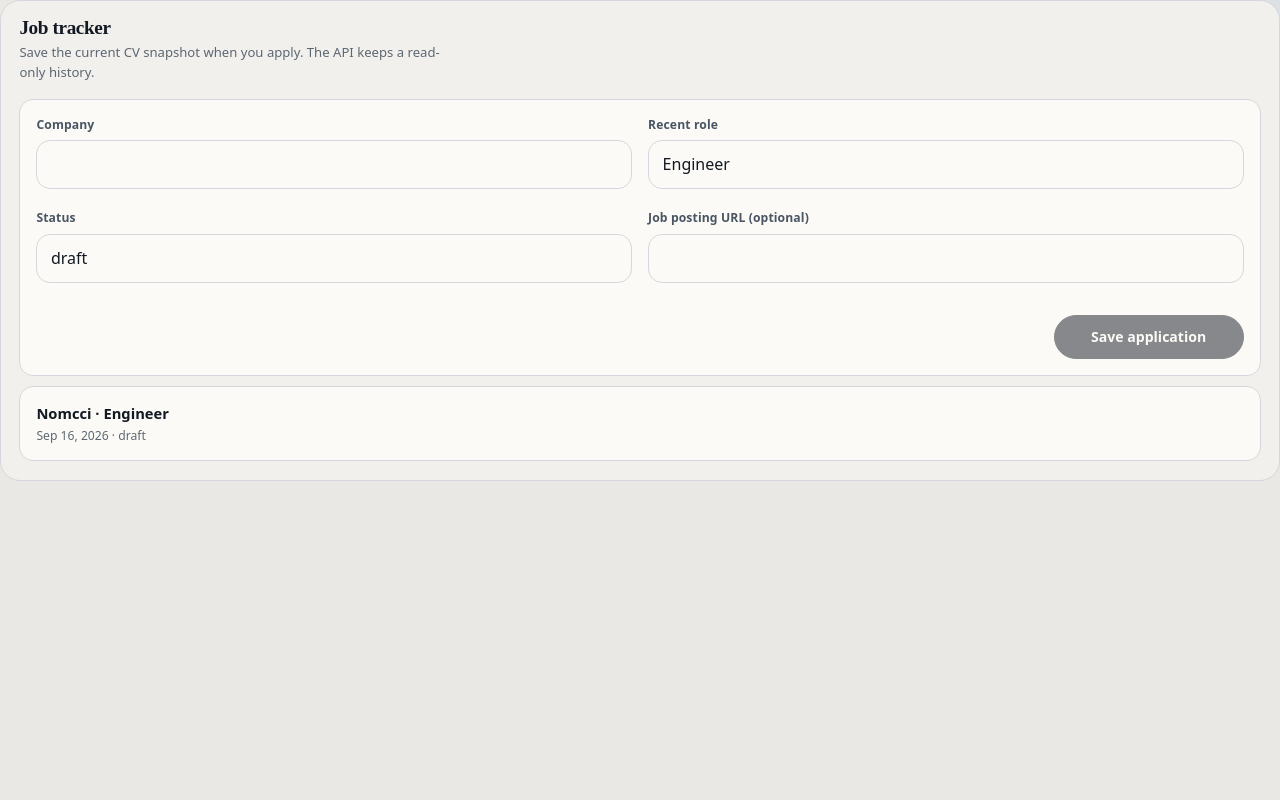
Test case: ApplicationTracker › saves the current CV snapshot and lists tracked applications
Check: the text "Nomcci · Engineer" is shown, box [36,402,169,425]
Type "Nomcci" into the field labelled "Company".
click(334, 165); type("Nomcci")  # box [36,140,632,189]
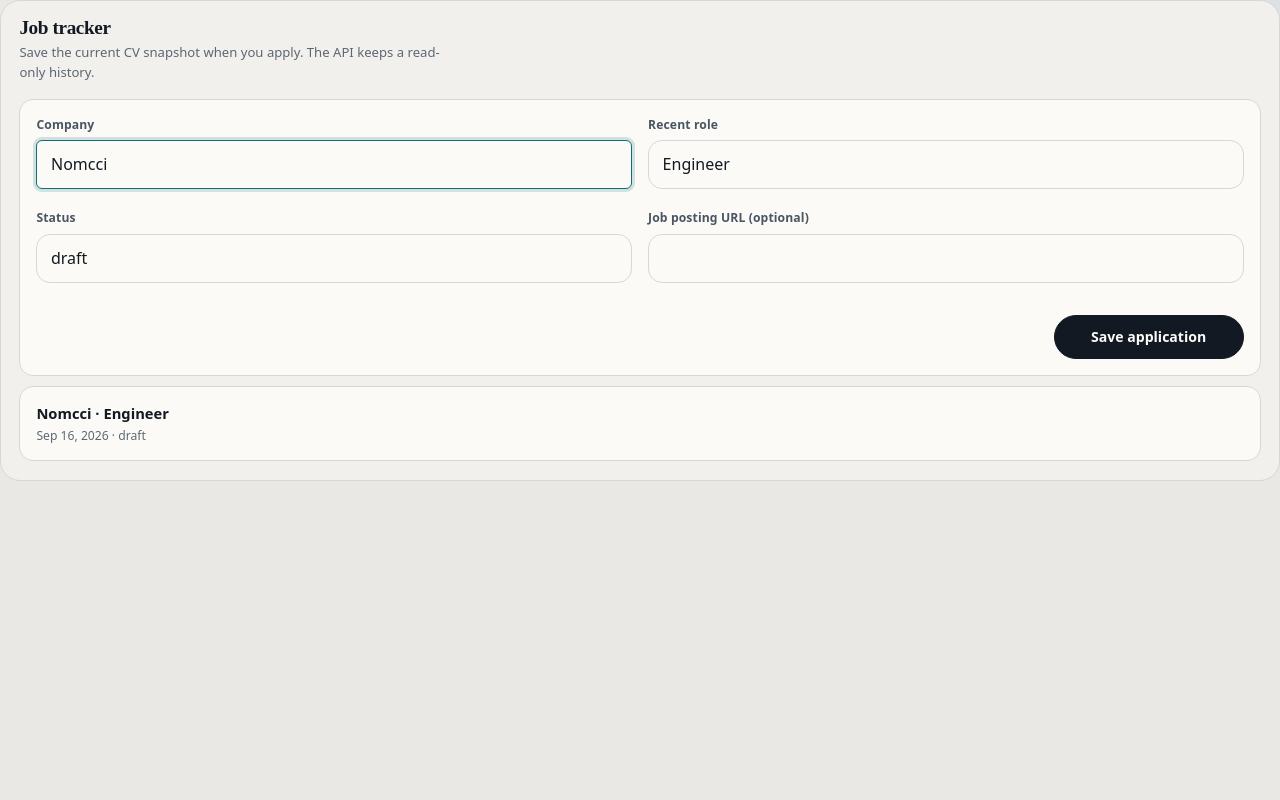
Click the button "Save application".
click(1149, 337)  # box [1054,315,1244,359]
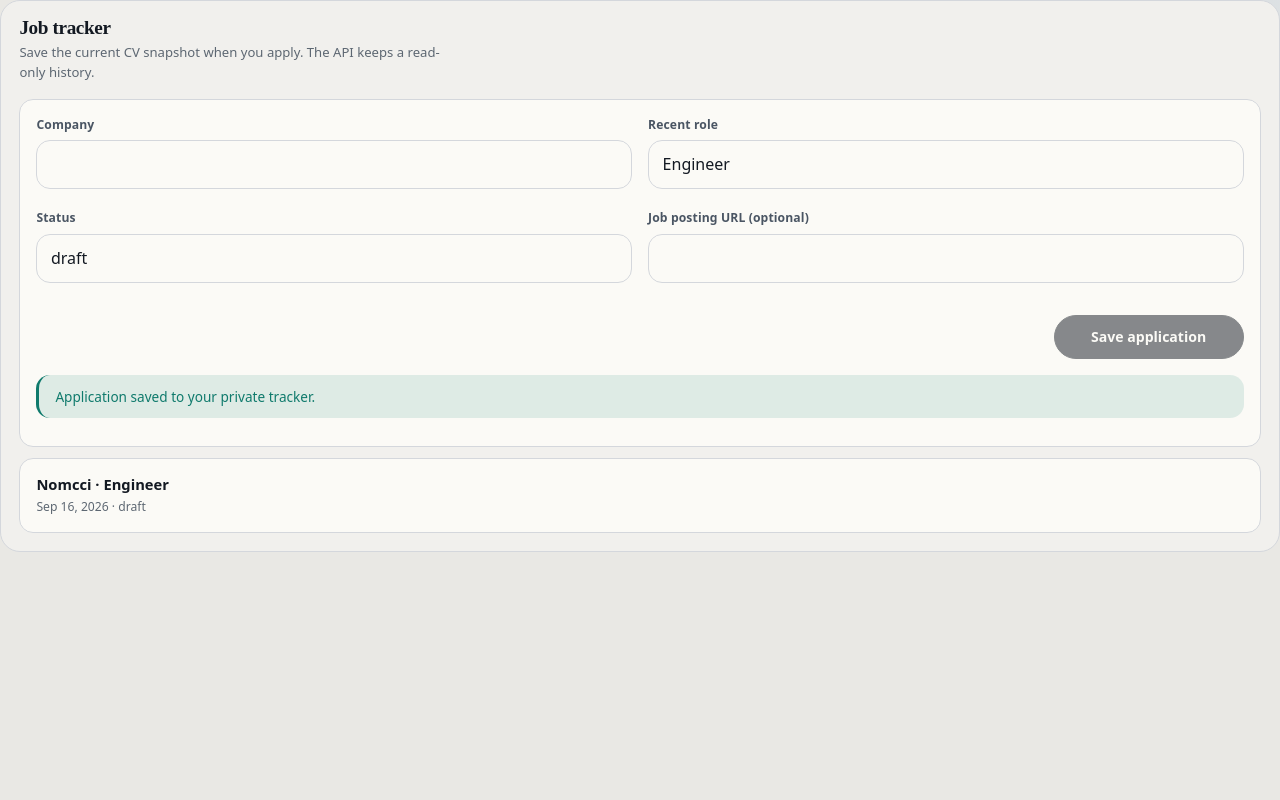
Check: the message shows "Application saved", box [55,387,315,406]
